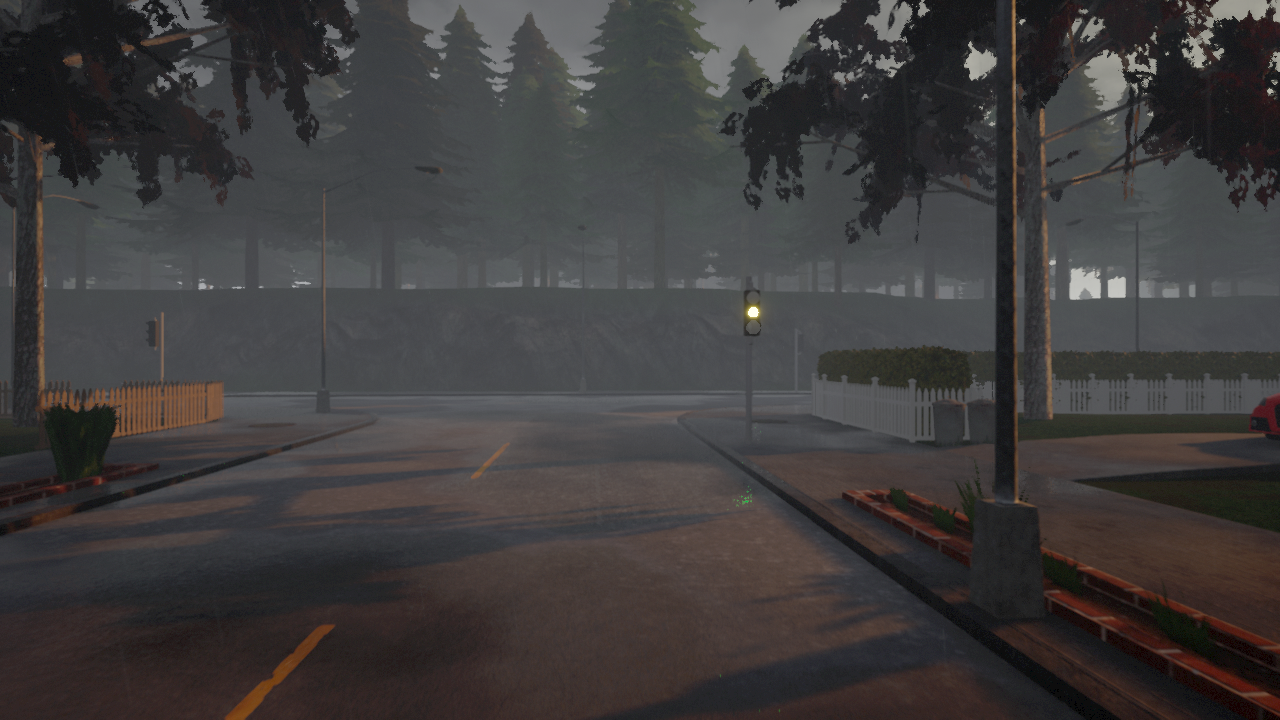yellow: (743, 288, 765, 338)
